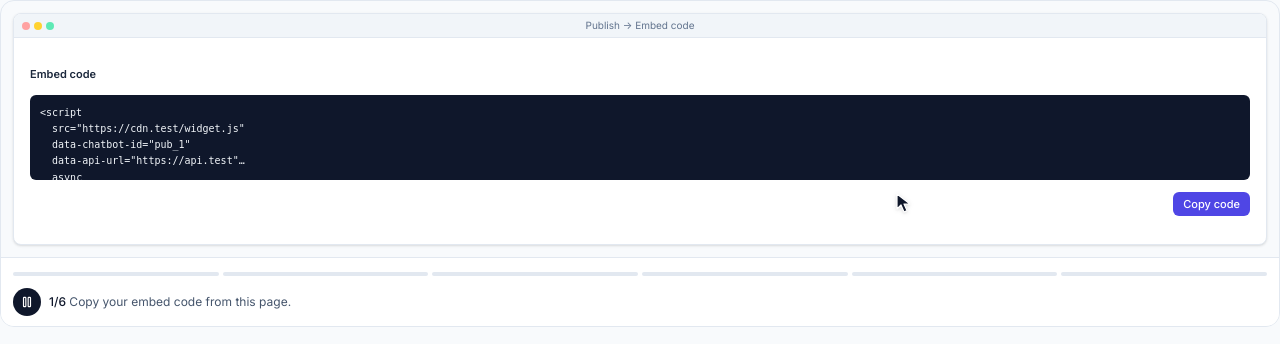
InstallDemo › pauses, and jumps to a step when its progress segment is clicked
Click the button named "Pause walkthrough". click: {"x": 27, "y": 302}
box: [13, 288, 41, 316]
Wait 10000 ms
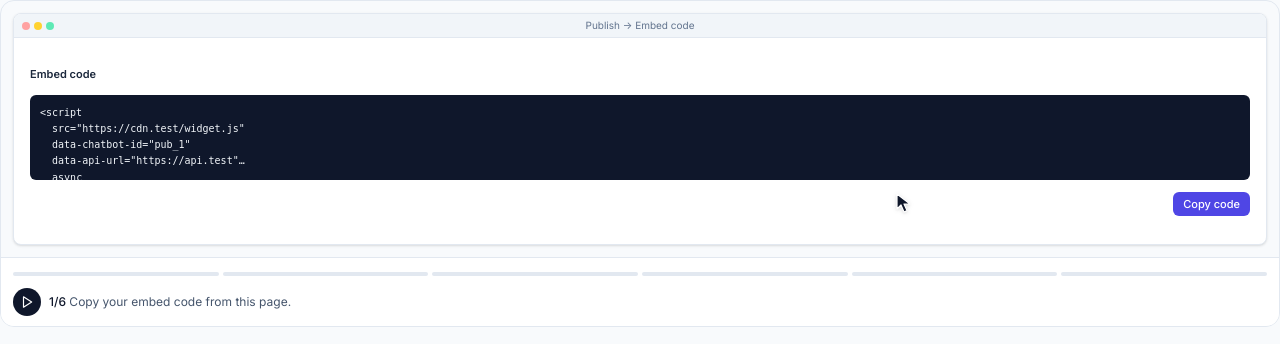
Expected: the element with test id "install-demo-caption" shows "1/6", [49, 294, 291, 310]
Click the button named "Step 4:". click: {"x": 745, "y": 274}
box: [642, 268, 848, 280]
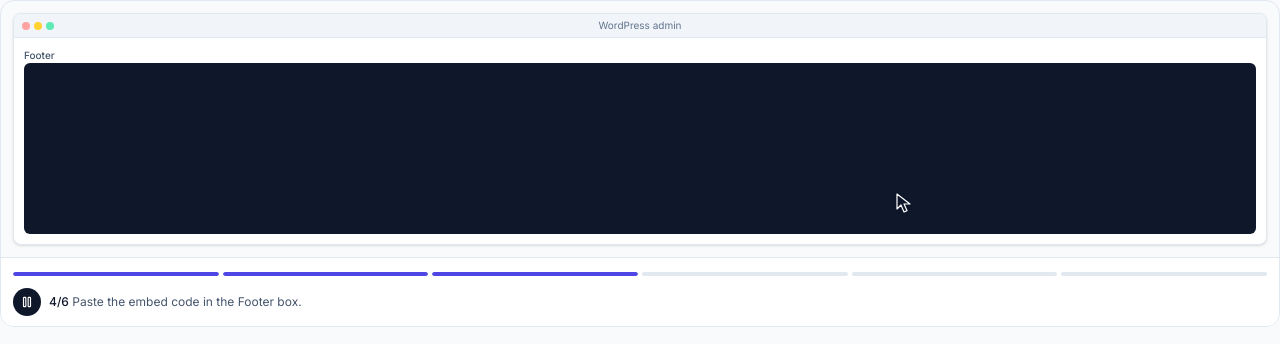
Expected: the element with test id "install-demo-caption" reads "4/6 Paste the embed code in the Footer box.", [49, 294, 302, 310]
Expected: the button named "Pause walkthrough" is shown, [13, 288, 41, 316]
